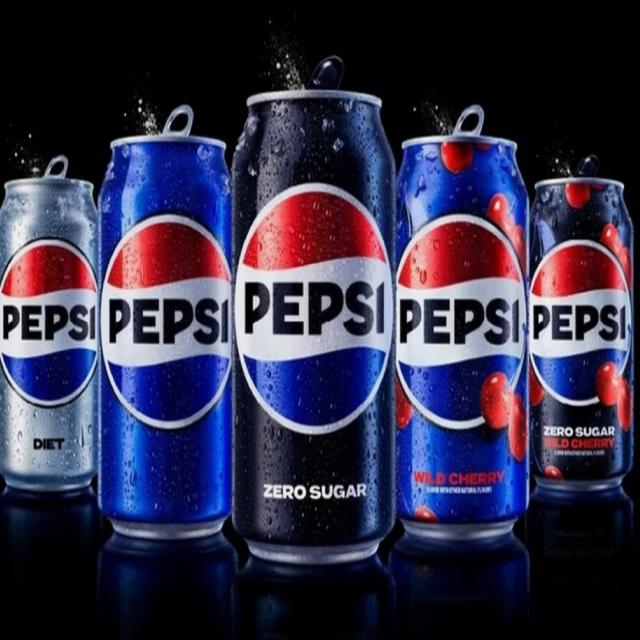supermarket-product: (238, 213, 392, 374)
